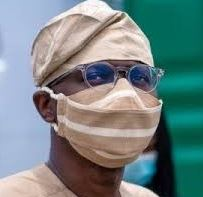with_facemask: (59, 83, 170, 167)
